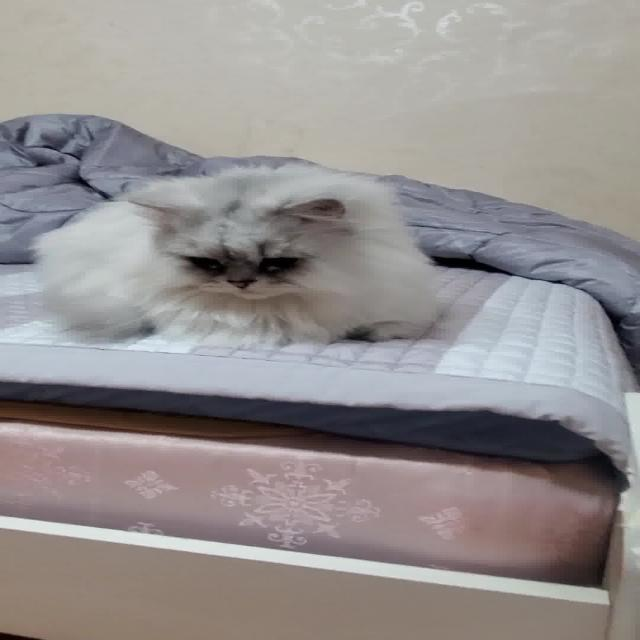cat: (19, 152, 467, 360)
